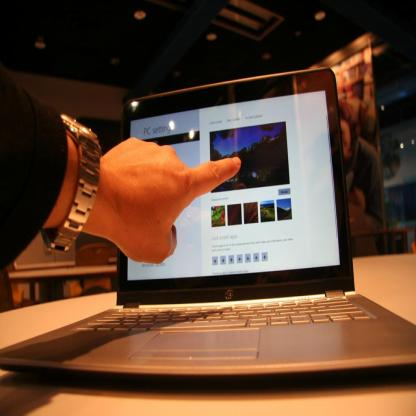board: (2, 68, 416, 391)
